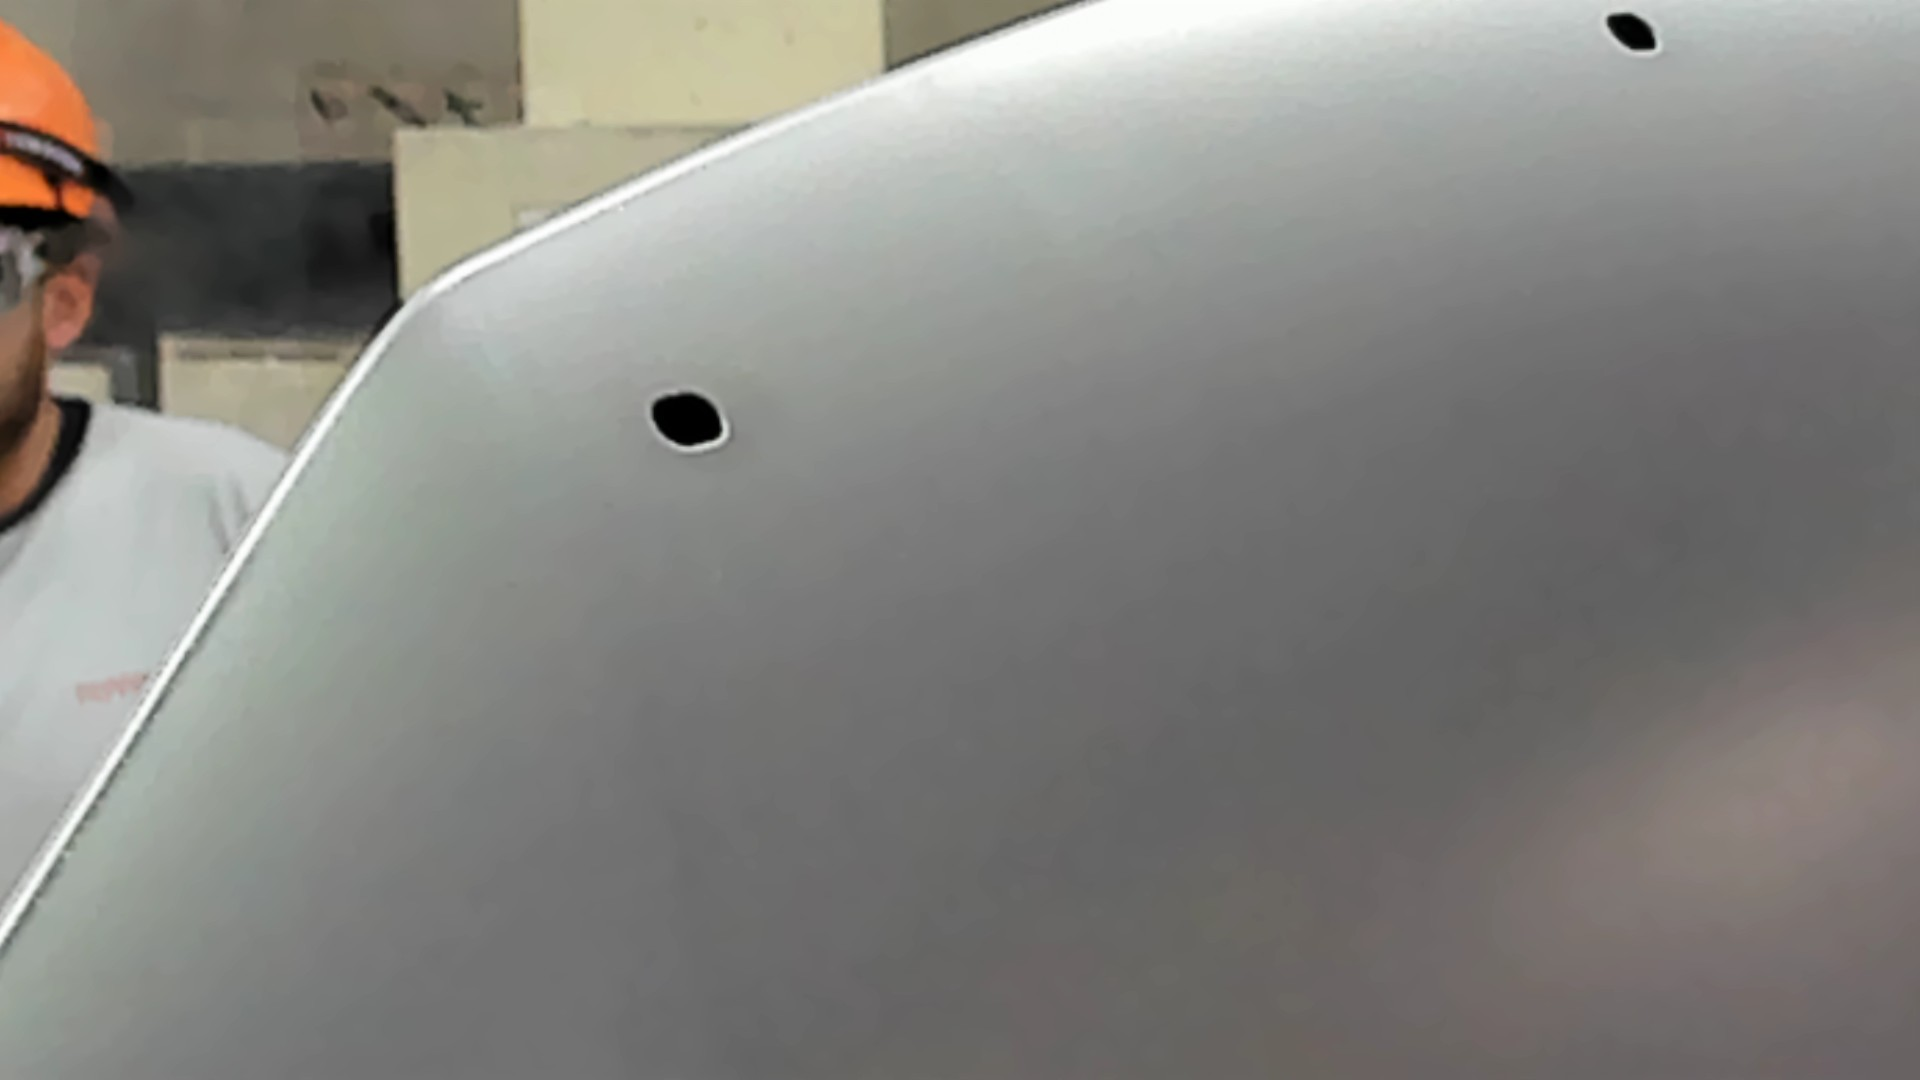amorfo: (638, 386, 746, 456), (1596, 5, 1669, 67)
capo: (858, 142, 1920, 1080)
